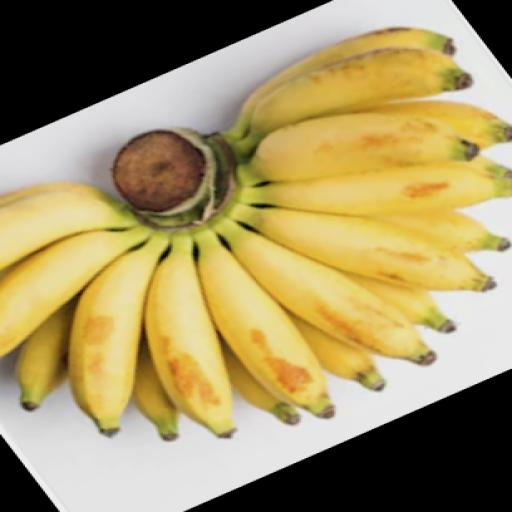banana-ripe: (0, 0, 512, 484)
